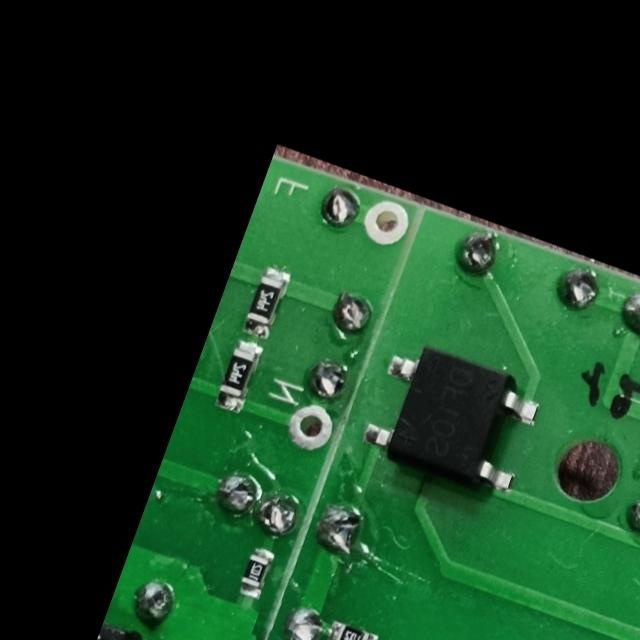chip-resistor: (210, 336, 266, 416), (238, 262, 291, 341), (233, 542, 276, 602), (320, 616, 378, 640)
ic: (356, 333, 548, 503)
